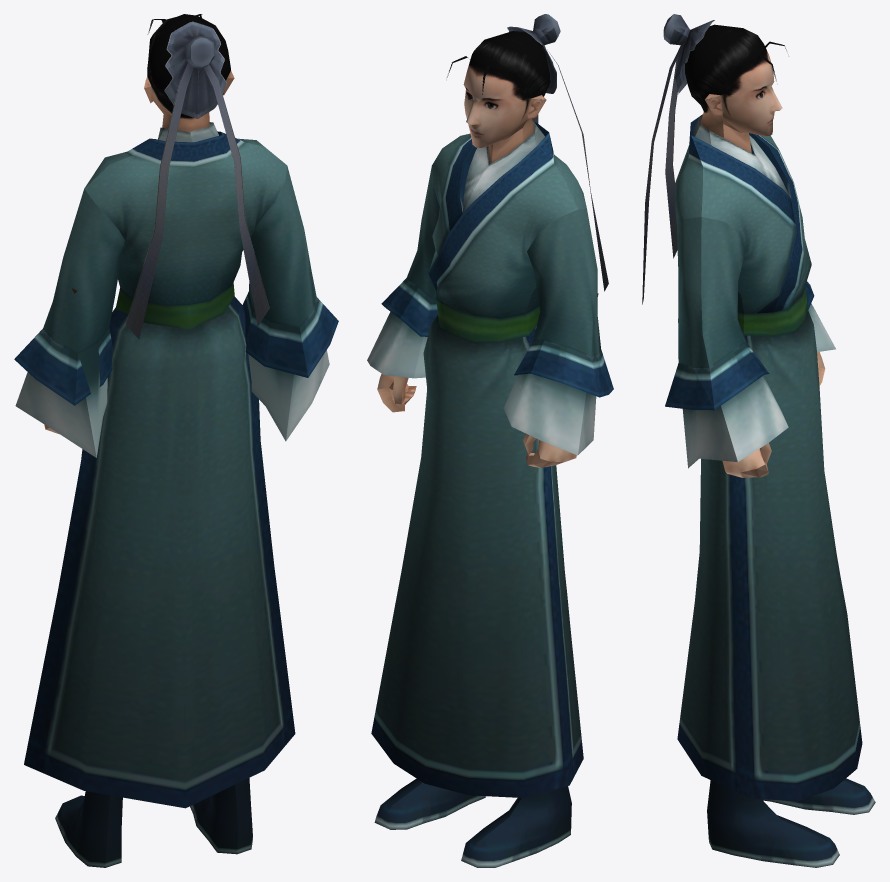
Rendered from chinese_scholar.FBX.
3 renders of one model, left to right at view 1: azimuth 30°, elevation 25°; view 2: azimuth 150°, elevation 25°; view 3: azimuth 270°, elevation 25°, orthographic. The views are drawn at different scales.
Visible parts, largest first — view 1: 38b5d528.obj, 38b5e030.obj; view 2: 38b5d528.obj, 38b5e030.obj; view 3: 38b5d528.obj, 38b5e030.obj.
Part boxes in pixels (bbox=[...]): 38b5d528.obj: bbox=[14, 122, 338, 867]; 38b5e030.obj: bbox=[125, 14, 269, 339]; 38b5d528.obj: bbox=[367, 120, 613, 867]; 38b5e030.obj: bbox=[447, 14, 608, 291]; 38b5d528.obj: bbox=[665, 114, 875, 867]; 38b5e030.obj: bbox=[642, 14, 786, 304].
Size of the model in its own units: 5.88 by 16.68 by 4.4.
